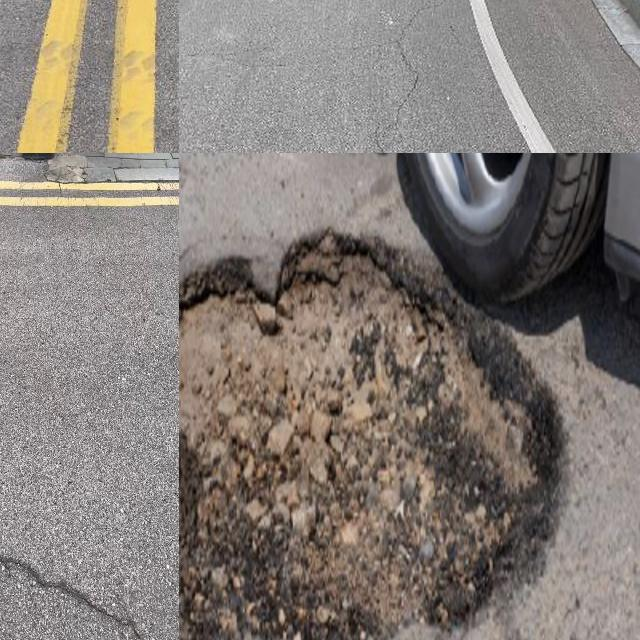Lubang: (179, 234, 557, 640)
Melintang: (0, 174, 179, 265)
Memanjang: (368, 5, 445, 153)
